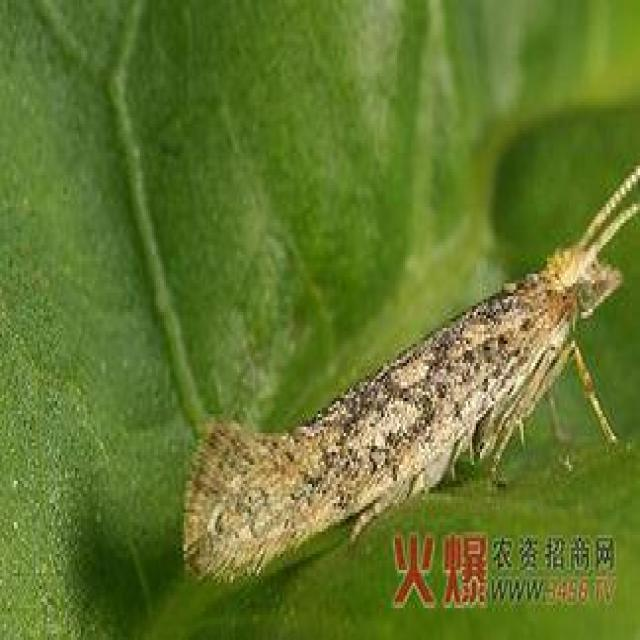armyworm: (172, 120, 640, 599)
